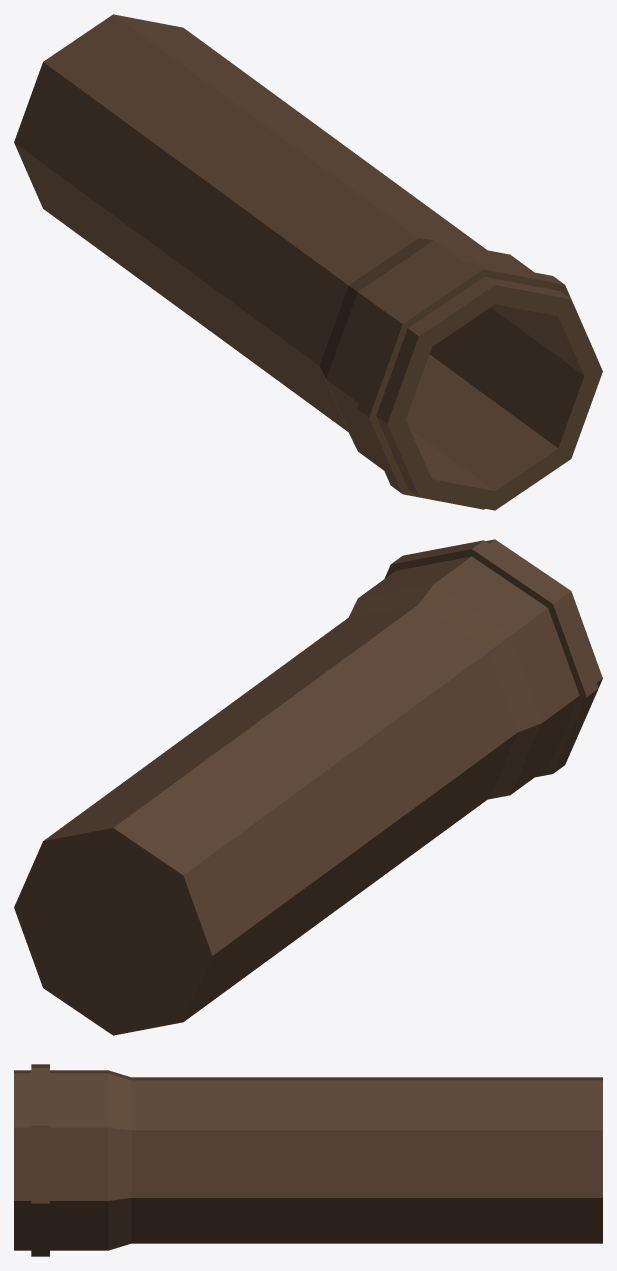
Rendered from SM_Envr_Canal_Discharge_Pipe.fbx.
The picture shows the model from 3 angles, top to bottom: view 1: azimuth 30°, elevation 25°; view 2: azimuth 150°, elevation 25°; view 3: azimuth 270°, elevation 25°; orthographic projection. The views are drawn at different scales.
Visible parts, largest first — view 1: SM_Envr_Canal_Discharge_Pipe; view 2: SM_Envr_Canal_Discharge_Pipe; view 3: SM_Envr_Canal_Discharge_Pipe.
Boxes of the visible parts, x1,y1,x2,y2 form: SM_Envr_Canal_Discharge_Pipe: (14, 14, 602, 510); SM_Envr_Canal_Discharge_Pipe: (14, 539, 602, 1035); SM_Envr_Canal_Discharge_Pipe: (14, 1064, 602, 1256).
Size of the model in its own units: 174 by 174 by 500.
